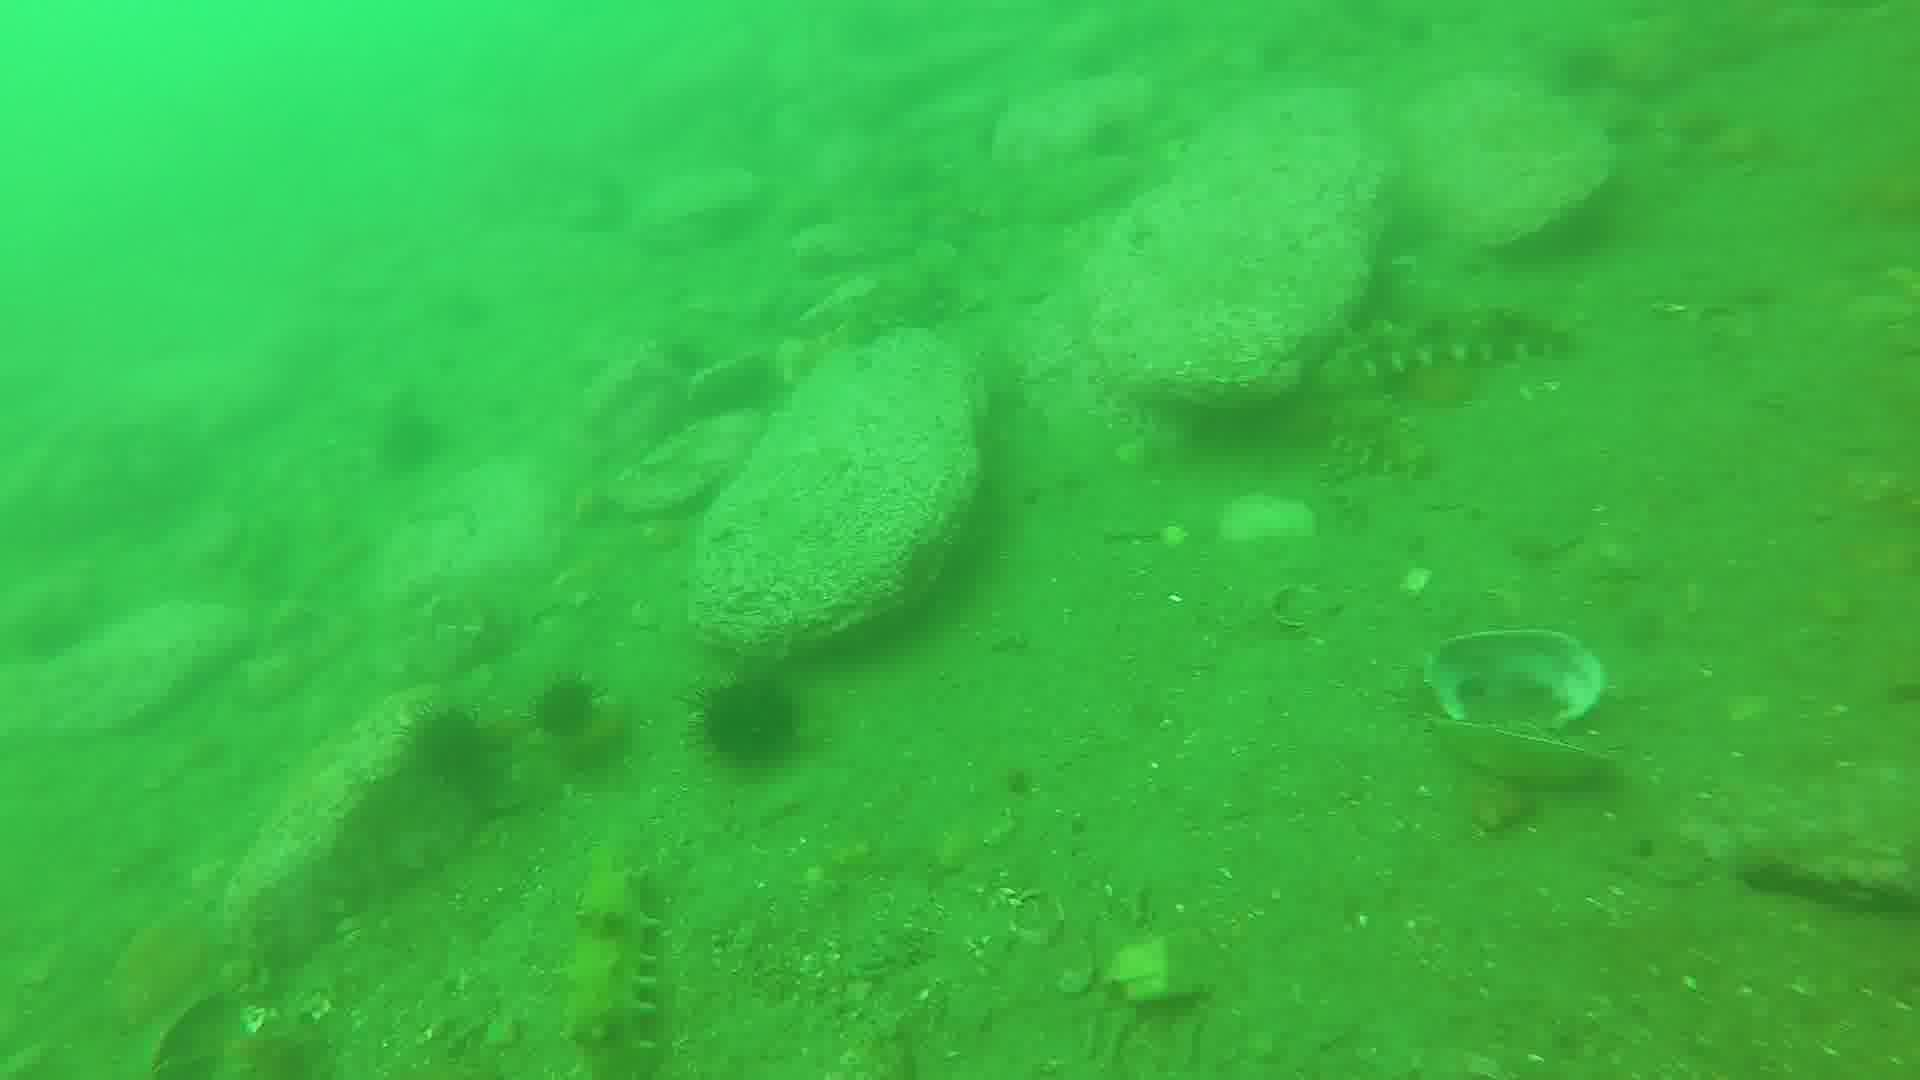echinus: (707, 673, 806, 770), (404, 712, 502, 793), (376, 409, 452, 475), (529, 675, 600, 736)
holothurian: (1319, 305, 1561, 475), (560, 819, 665, 1080)
scallop: (1423, 625, 1630, 796)
